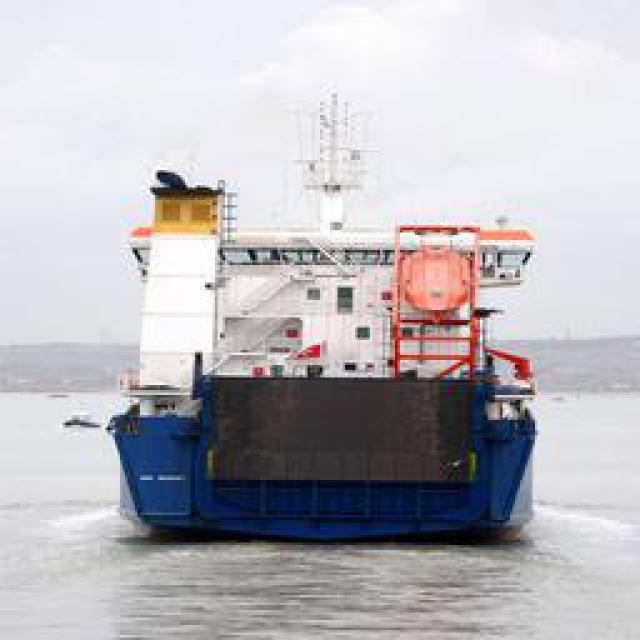Ship: (101, 226, 546, 554)
